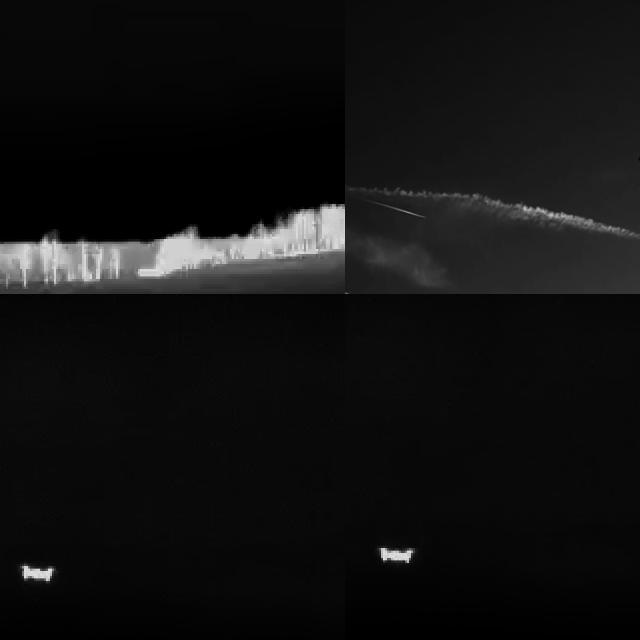1: (7, 558, 67, 592), (365, 540, 425, 574)
drone: (632, 151, 640, 169)
